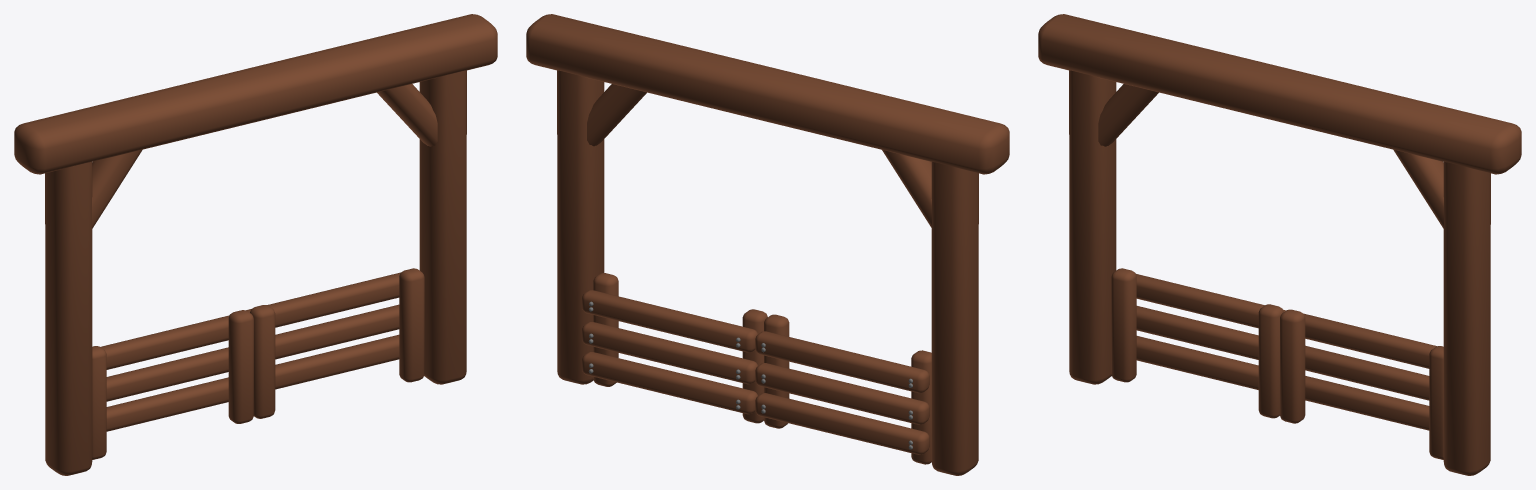
File: Door1.fbx
The picture shows the model from 3 angles, left to right: view 1: azimuth 30°, elevation 25°; view 2: azimuth 150°, elevation 25°; view 3: azimuth 330°, elevation 25°; orthographic projection.
Visible parts, largest first — view 1: Cube.007, Cube.008, Cube.009; view 2: Cube.007, Cube.009, Cube.008; view 3: Cube.007, Cube.009, Cube.008.
Part boxes in pixels (x1,y1,x2,y2): Cube.007: (14,14,497,475); Cube.008: (246,268,424,418); Cube.009: (92,310,253,459); Cube.007: (526,14,1009,475); Cube.009: (755,314,931,464); Cube.008: (582,273,767,423); Cube.007: (1038,14,1521,475); Cube.009: (1111,268,1286,418); Cube.008: (1280,309,1443,459).
Bounding box in the file's own units: 11.79 × 1.43 × 8.43.
